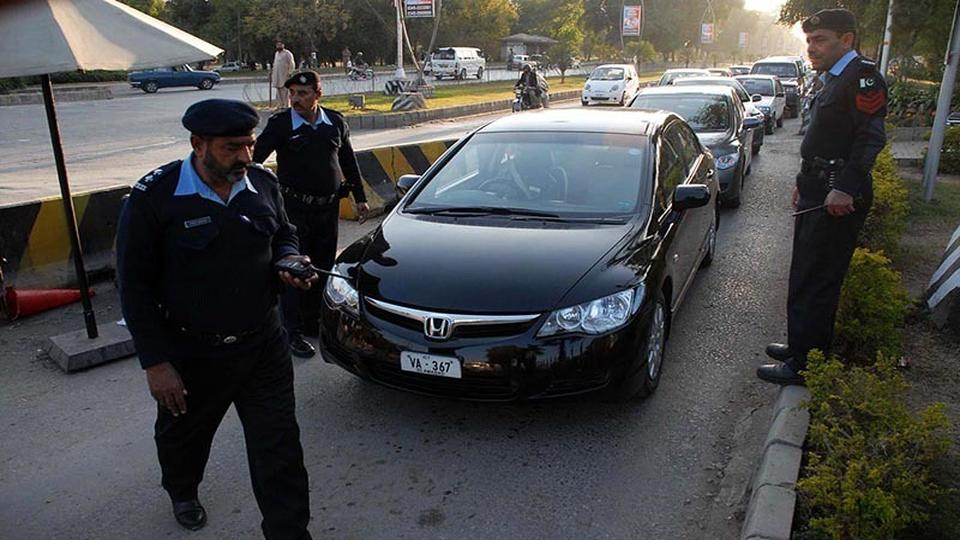NumberPlate: (398, 336, 480, 398)
